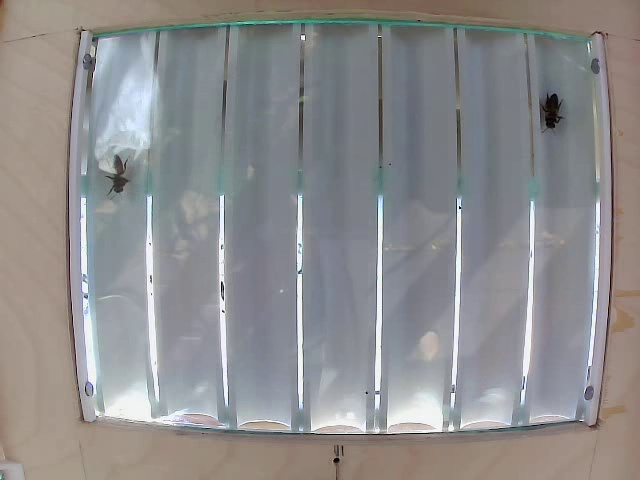bee: (108, 144, 147, 189), (537, 89, 574, 134)
